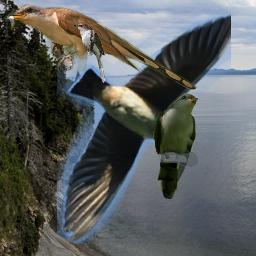Cuckoo: (3, 4, 197, 90), (153, 93, 198, 199), (72, 22, 105, 83)
Swallow: (57, 10, 231, 244)
